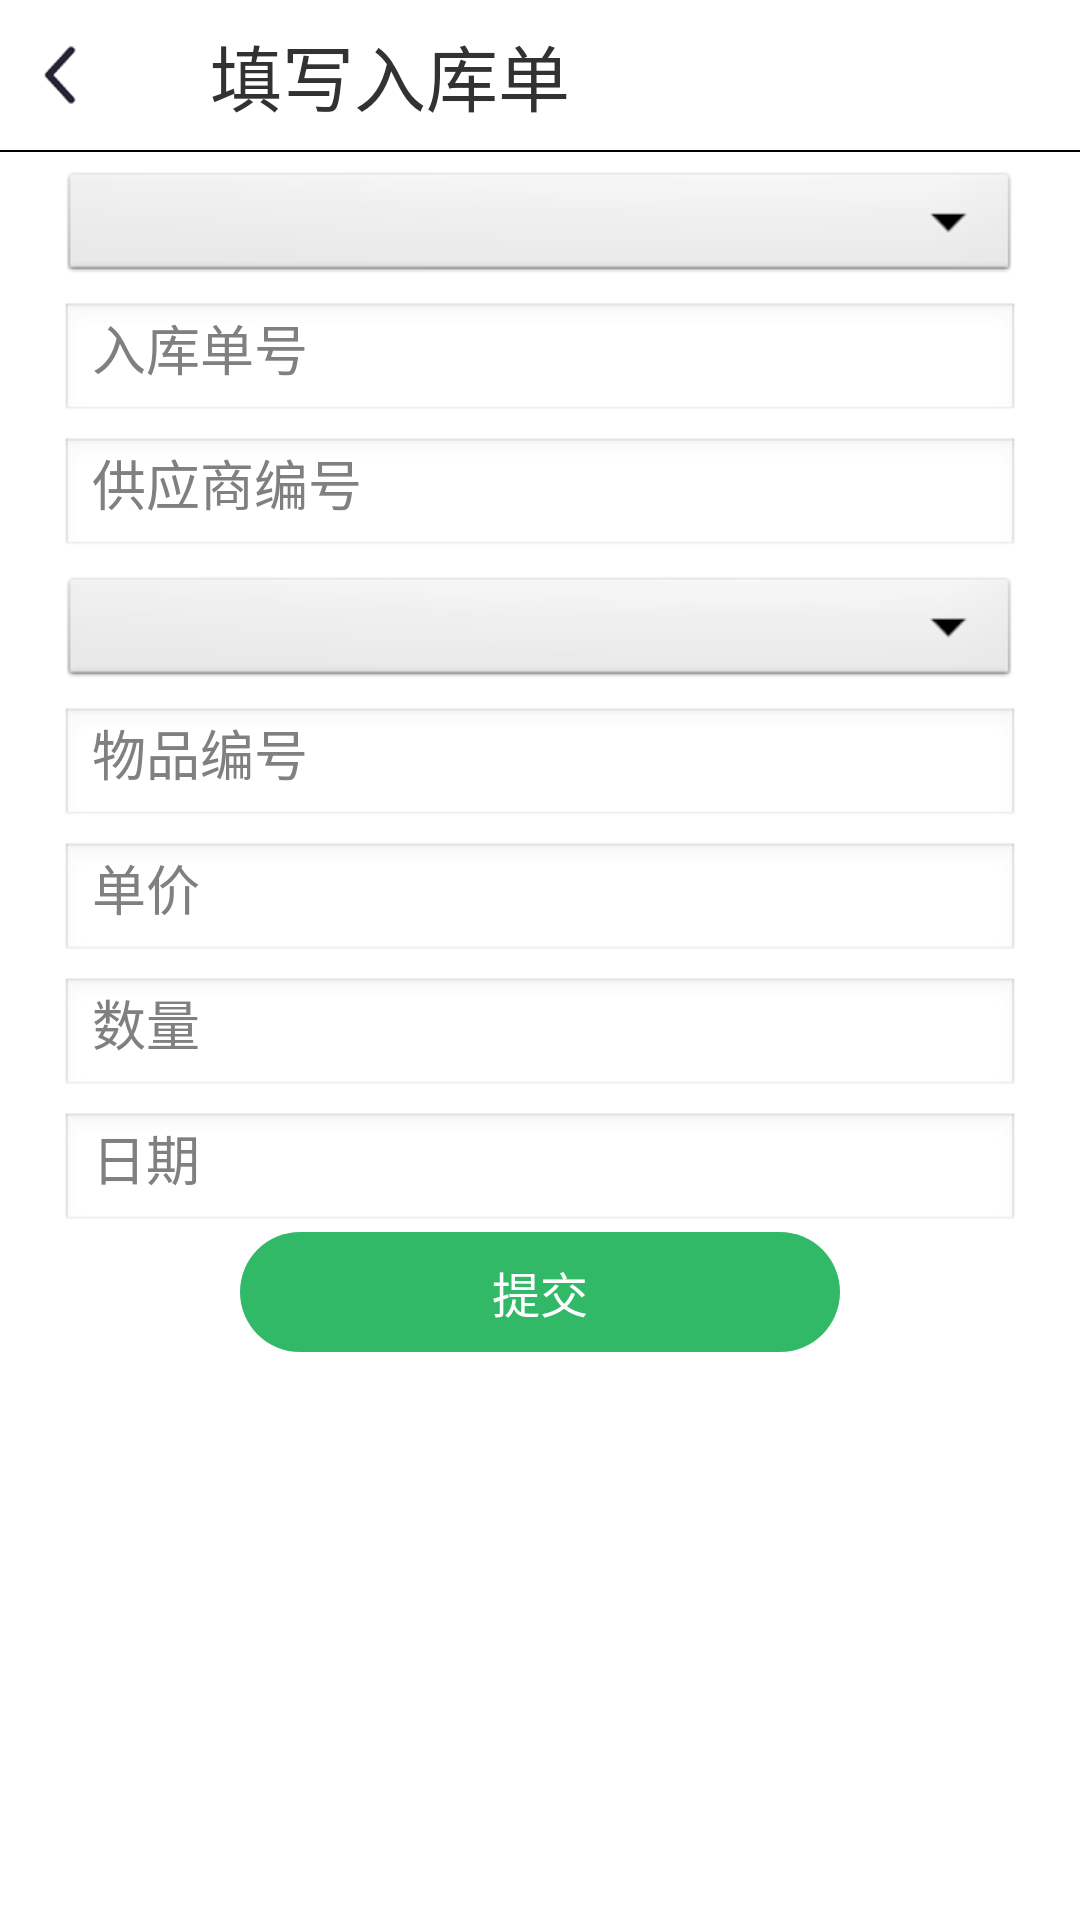

Screen size 1080x1920. Icon name, then its center in pixels as point (x, y):
arrow back: point (60, 75)
